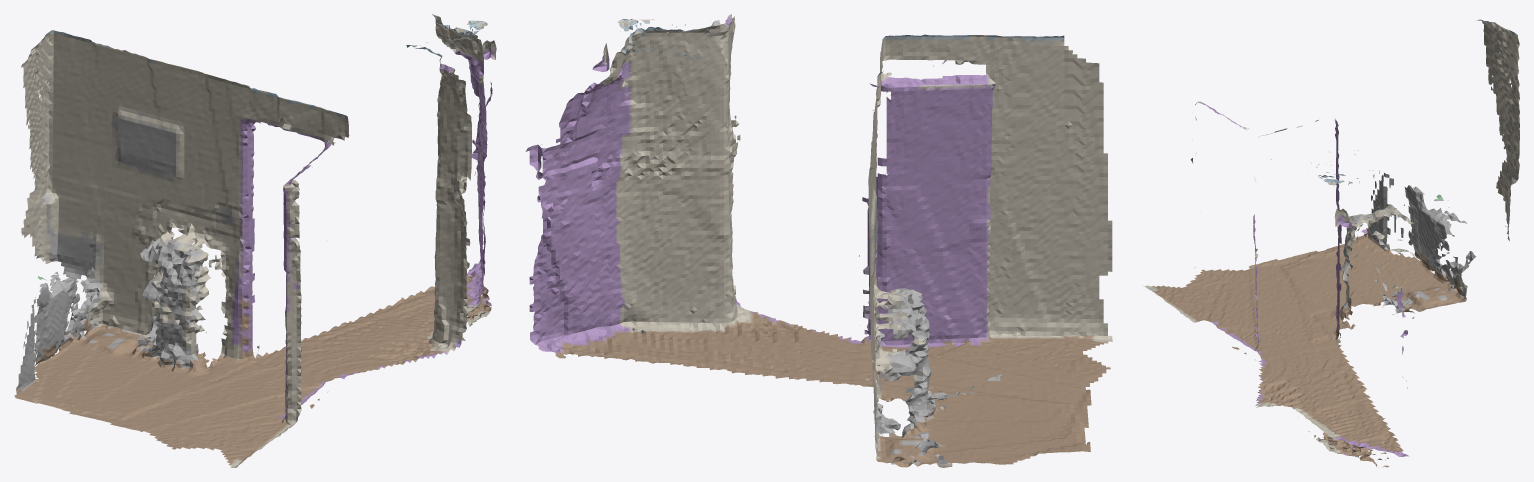
File: background.glb
The picture shows the model from 3 angles, left to right: view 1: azimuth 30°, elevation 25°; view 2: azimuth 150°, elevation 25°; view 3: azimuth 270°, elevation 25°; orthographic projection. The views are drawn at different scales.
Visible parts, largest first — view 1: AbundanceScan-2026-07-18_175842.glb; view 2: AbundanceScan-2026-07-18_175842.glb; view 3: AbundanceScan-2026-07-18_175842.glb.
Boxes of the visible parts, x1,y1,x2,y2 form: AbundanceScan-2026-07-18_175842.glb: (14, 14, 496, 467); AbundanceScan-2026-07-18_175842.glb: (525, 14, 1112, 467); AbundanceScan-2026-07-18_175842.glb: (1143, 19, 1519, 467).
Size of the model in its own units: 4.3 by 2.45 by 3.07.
